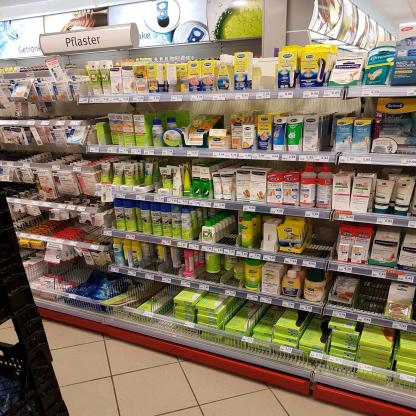empty_space: (352, 280, 388, 318), (301, 231, 336, 261), (155, 306, 175, 329), (215, 231, 240, 249), (261, 66, 275, 90)
